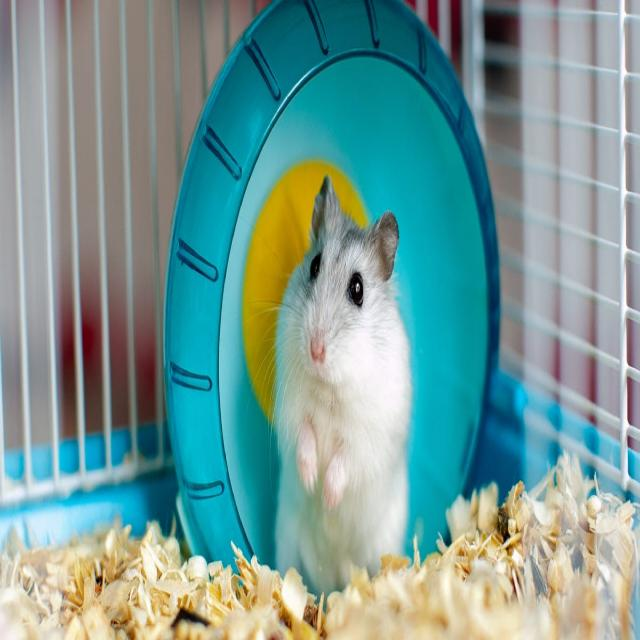hamster: (270, 172, 409, 579)
